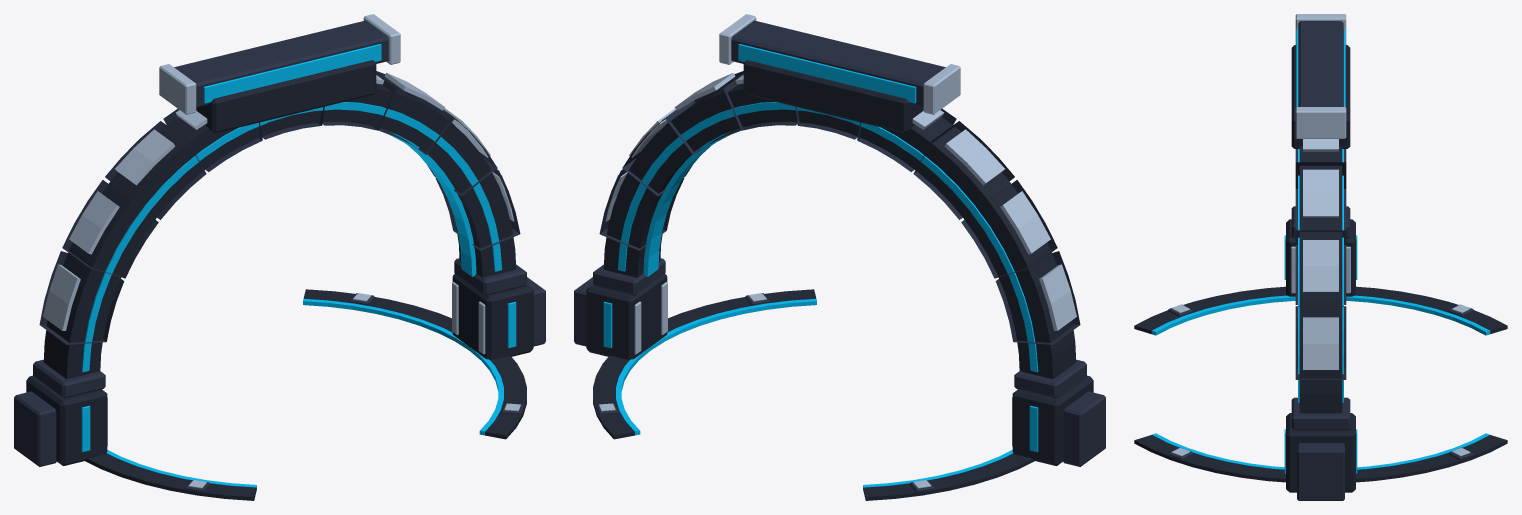
File: QueuePortalArch_Prototype.obj
3 renders of one model, left to right at view 1: azimuth 30°, elevation 25°; view 2: azimuth 150°, elevation 25°; view 3: azimuth 270°, elevation 25°, orthographic. The views are drawn at different scales.
Parts seen in each view (by area): view 1: Portal_ArchCore, Portal_CrownBase, Portal_CrownUpper, Portal_ArchFaceGlow_Back, Portal_PylonBase_R, Portal_PylonBase_L, Portal_FloorCurb_R, Portal_PylonButtress_L, Portal_HoloBanner_Back, Portal_FloorCurb_L, Portal_FloorGlowRim_R, Portal_ArchInnerConduit (+12 smaller); view 2: Portal_ArchCore, Portal_CrownBase, Portal_CrownUpper, Portal_ArchFaceGlow_Front, Portal_PylonBase_R, Portal_PylonBase_L, Portal_FloorCurb_R, Portal_PylonButtress_L, Portal_HoloBanner_Front, Portal_FloorCurb_L, Portal_FloorGlowRim_R, Portal_ArchInnerConduit (+12 smaller); view 3: Portal_ArchCore, Portal_FloorCurb_R, Portal_CrownUpper, Portal_FloorCurb_L, Portal_PylonButtress_R, Portal_PylonBase_R, Portal_FloorGlowRim_L, Portal_ArchRibTrim_1, Portal_ArchRibTrim_2, Portal_ArchRibTrim_3, Portal_CrownCap_R, Portal_PylonCollar_R (+10 smaller).
Boxes of the visible parts, <box> form: Portal_ArchCore: <box>43,82,516,379</box>; Portal_CrownBase: <box>196,60,376,133</box>; Portal_CrownUpper: <box>174,20,388,107</box>; Portal_ArchFaceGlow_Back: <box>81,102,502,372</box>; Portal_PylonBase_R: <box>452,273,533,359</box>; Portal_PylonBase_L: <box>26,375,107,465</box>; Portal_FloorCurb_R: <box>303,289,526,439</box>; Portal_PylonButtress_L: <box>14,391,56,466</box>; Portal_HoloBanner_Back: <box>203,44,381,103</box>; Portal_FloorCurb_L: <box>85,453,256,500</box>; Portal_FloorGlowRim_R: <box>303,298,503,435</box>; Portal_ArchInnerConduit: <box>379,130,476,276</box>; Portal_ArchCore: <box>603,82,1076,379</box>; Portal_CrownBase: <box>743,60,923,133</box>; Portal_CrownUpper: <box>731,20,945,107</box>; Portal_ArchFaceGlow_Front: <box>617,102,1038,372</box>; Portal_PylonBase_R: <box>586,273,667,359</box>; Portal_PylonBase_L: <box>1012,375,1093,465</box>; Portal_FloorCurb_R: <box>593,289,816,439</box>; Portal_PylonButtress_L: <box>1063,391,1105,466</box>; Portal_HoloBanner_Front: <box>738,44,916,103</box>; Portal_FloorCurb_L: <box>863,453,1034,500</box>; Portal_FloorGlowRim_R: <box>616,298,816,435</box>; Portal_ArchInnerConduit: <box>643,130,740,276</box>; Portal_ArchCore: <box>1299,146,1342,413</box>; Portal_FloorCurb_R: <box>1134,435,1507,482</box>; Portal_CrownUpper: <box>1298,21,1343,106</box>; Portal_FloorCurb_L: <box>1134,286,1507,333</box>; Portal_PylonButtress_R: <box>1297,443,1344,500</box>; Portal_PylonBase_R: <box>1286,413,1355,492</box>; Portal_FloorGlowRim_L: <box>1151,295,1490,335</box>; Portal_ArchRibTrim_1: <box>1303,317,1338,369</box>; Portal_ArchRibTrim_2: <box>1303,240,1338,291</box>; Portal_ArchRibTrim_3: <box>1303,169,1338,217</box>; Portal_CrownCap_R: <box>1295,107,1346,138</box>; Portal_PylonCollar_R: <box>1291,397,1350,430</box>.
Bounding box in the file's own units: 40.8 × 26.65 × 27.83.
